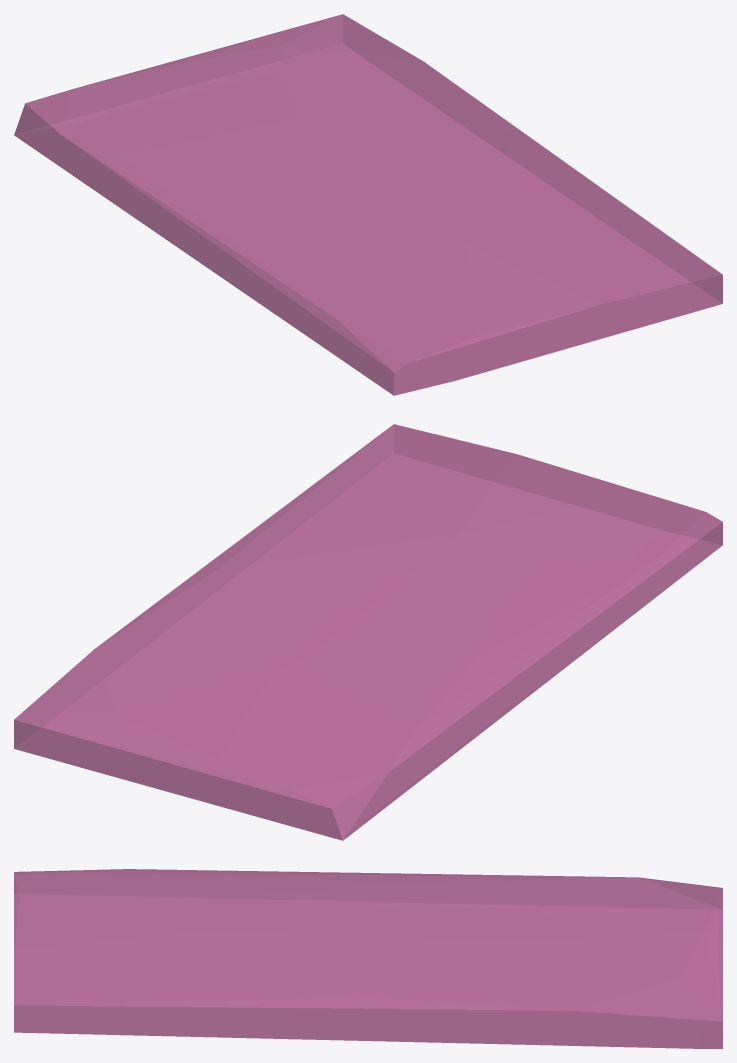
3 views of the same model, one above another, from view 1: azimuth 30°, elevation 25°; view 2: azimuth 150°, elevation 25°; view 3: azimuth 270°, elevation 25° (orthographic). The views are drawn at different scales.
Parts seen in each view (by area): view 1: Shape_IndexedFaceSet.007_Shape_IndexedFaceSet.11151; view 2: Shape_IndexedFaceSet.007_Shape_IndexedFaceSet.11151; view 3: Shape_IndexedFaceSet.007_Shape_IndexedFaceSet.11151.
Part boxes in pixels (bbox=[...]): Shape_IndexedFaceSet.007_Shape_IndexedFaceSet.11151: bbox=[14, 14, 722, 395]; Shape_IndexedFaceSet.007_Shape_IndexedFaceSet.11151: bbox=[14, 424, 722, 840]; Shape_IndexedFaceSet.007_Shape_IndexedFaceSet.11151: bbox=[14, 869, 722, 1048].
Bounding box in the file's own units: 0.1937 × 0.0328 × 0.3874.
